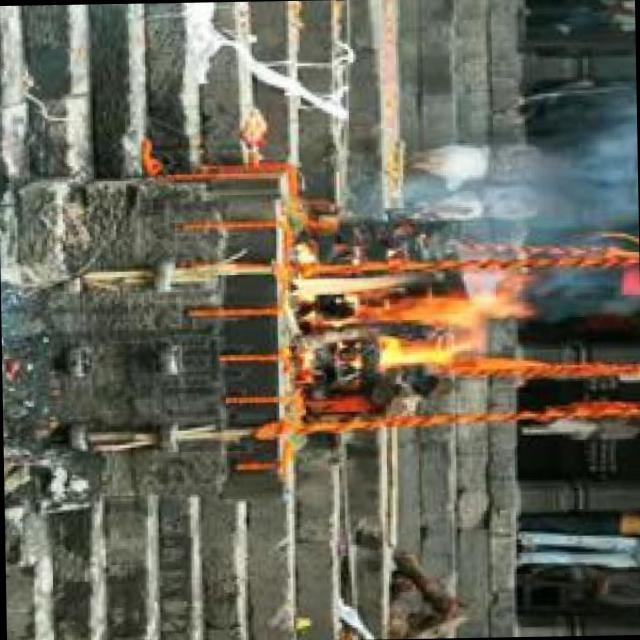Fire: (289, 266, 523, 372)
